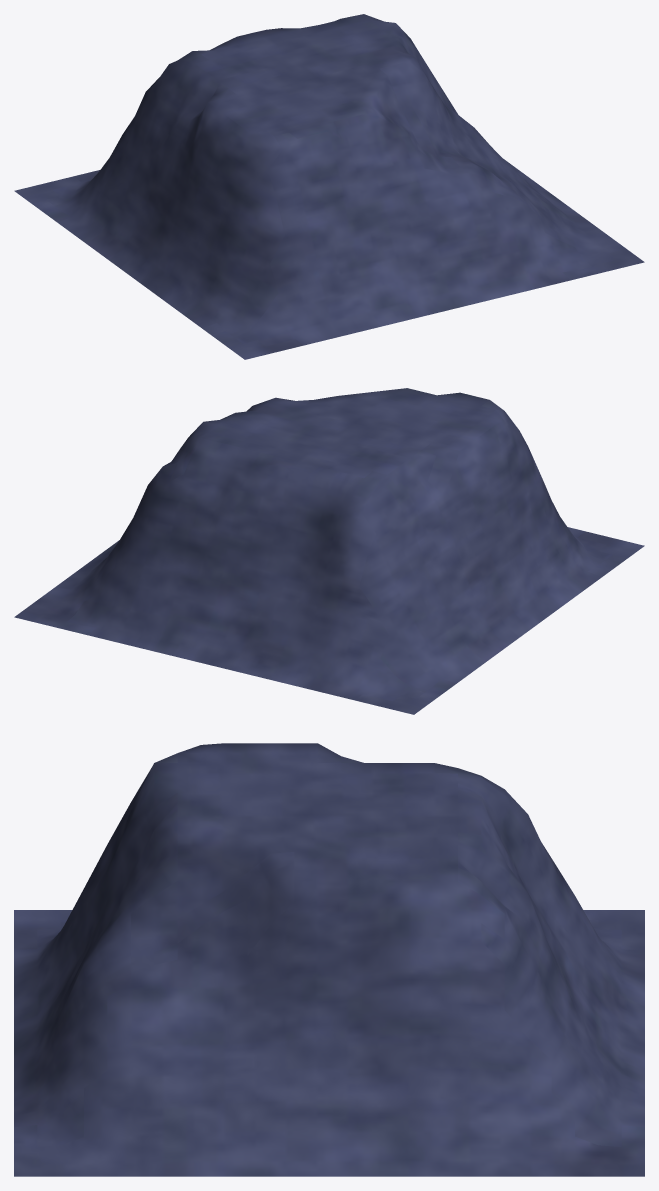
The model's file is mountain.dae.
3 renders of one model, top to bottom at view 1: azimuth 30°, elevation 25°; view 2: azimuth 150°, elevation 25°; view 3: azimuth 270°, elevation 25°, orthographic. The views are drawn at different scales.
Visible parts, largest first — view 1: Landscape; view 2: Landscape; view 3: Landscape.
Boxes of the visible parts, x1=… form: Landscape: x1=14, y1=14, x2=644, y2=359; Landscape: x1=14, y1=388, x2=644, y2=714; Landscape: x1=14, y1=743, x2=644, y2=1176.
Size of the model in its own units: 2.09 by 2.09 by 0.79.
Materials: 1 (1 with a texture image).
